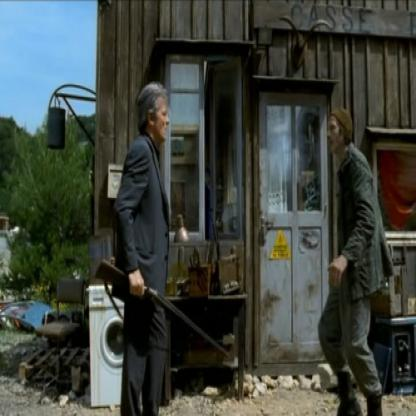Gun: (92, 255, 232, 360)
